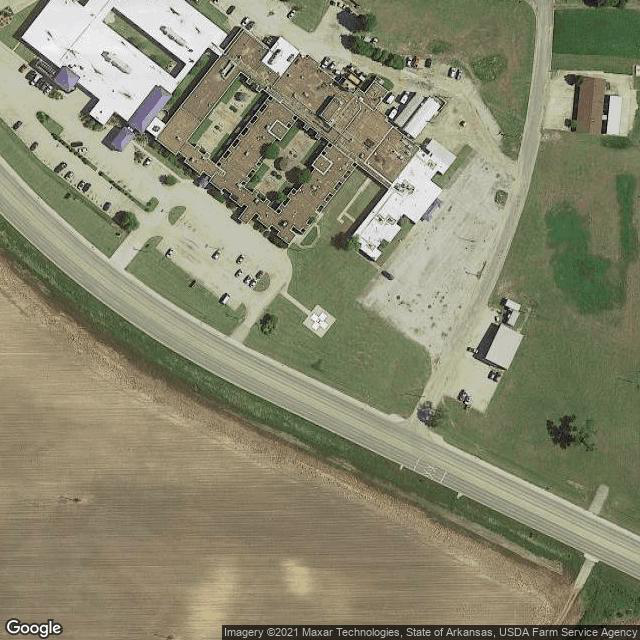Helipad: (301, 302, 337, 337)
